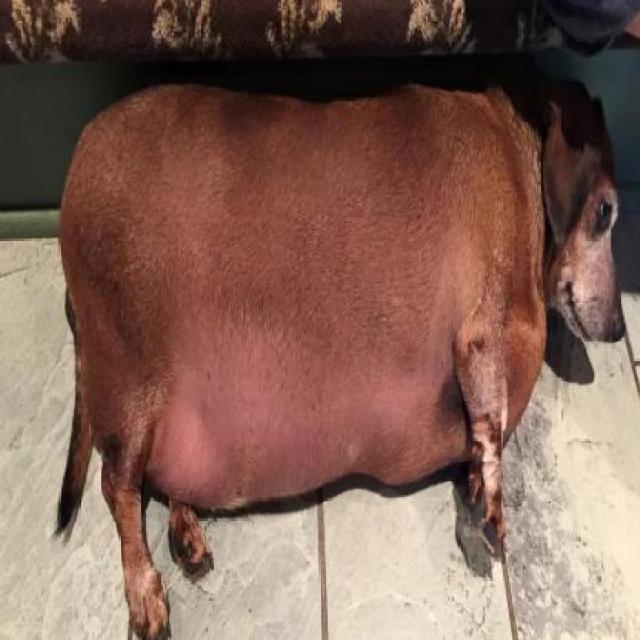Dog: (55, 76, 628, 638)
